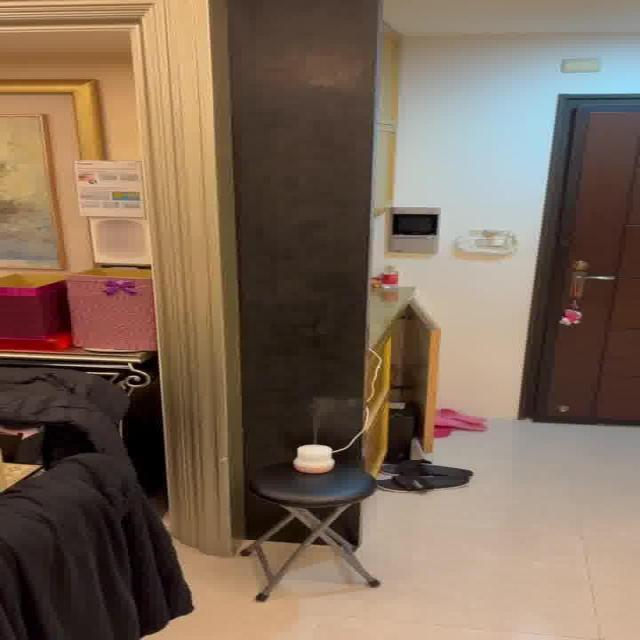fire: (300, 394, 345, 440)
